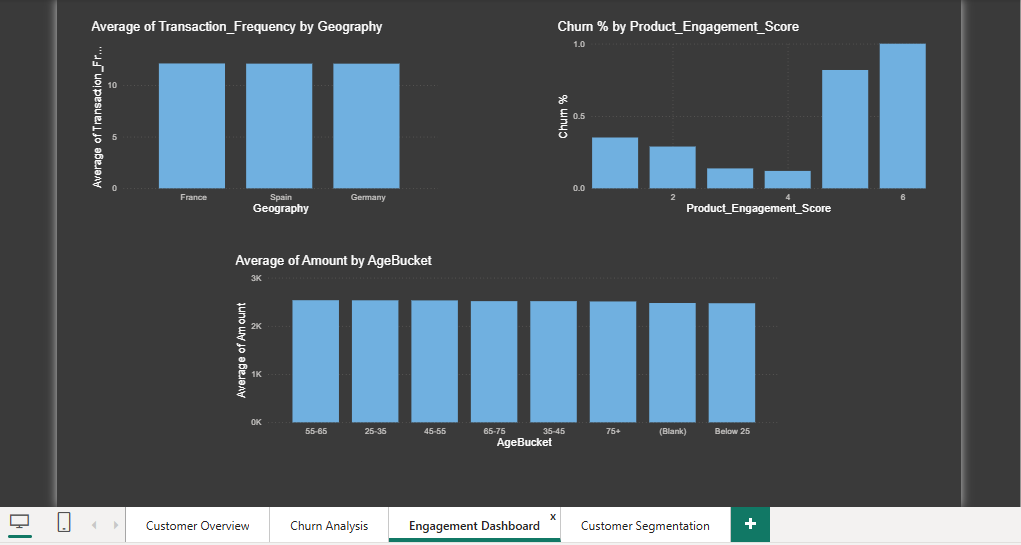

What the dashboard file says about the page in this screenshot:
{"tool":"powerbi","page":{"name":"Engagement Dashboard","canvas":[1280,720],"ordinal":2},"visuals":[{"type":"clusteredColumnChart","fields":{"Category":["Customers_Cleaned.Geography"],"Y":["Avg(Customers_TransFreq_AvgBal.Transaction_Frequency)"]},"box":[43.8,27.8,501.2,282],"z":0},{"type":"clusteredColumnChart","fields":{"Y":["Customers_Cleaned.Churn %"],"Category":["Customers_Cleaned.Product_Engagement_Score"]},"box":[704.3,27.8,531.9,282],"z":1000},{"type":"columnChart","fields":{"Category":["Customers_Cleaned.AgeBucket"],"Y":["Avg(Transactions.Amount)"]},"box":[248.4,359.5,781.7,282],"z":2000}]}

Visuals, with their boxes on the page's 1280x720 design canvas (x1, y1, x2, y2). These are canvas units, not pixel positions in the 1021x545 screenshot, which may show the page scaled, cropped or inside an application window:
clusteredColumnChart - Customers_Cleaned.Geography x Avg(Customers_TransFreq_AvgBal.Transaction_Frequency): bbox(44, 28, 545, 310)
clusteredColumnChart - Customers_Cleaned.Churn % x Customers_Cleaned.Product_Engagement_Score: bbox(704, 28, 1236, 310)
columnChart - Customers_Cleaned.AgeBucket x Avg(Transactions.Amount): bbox(248, 360, 1030, 642)
